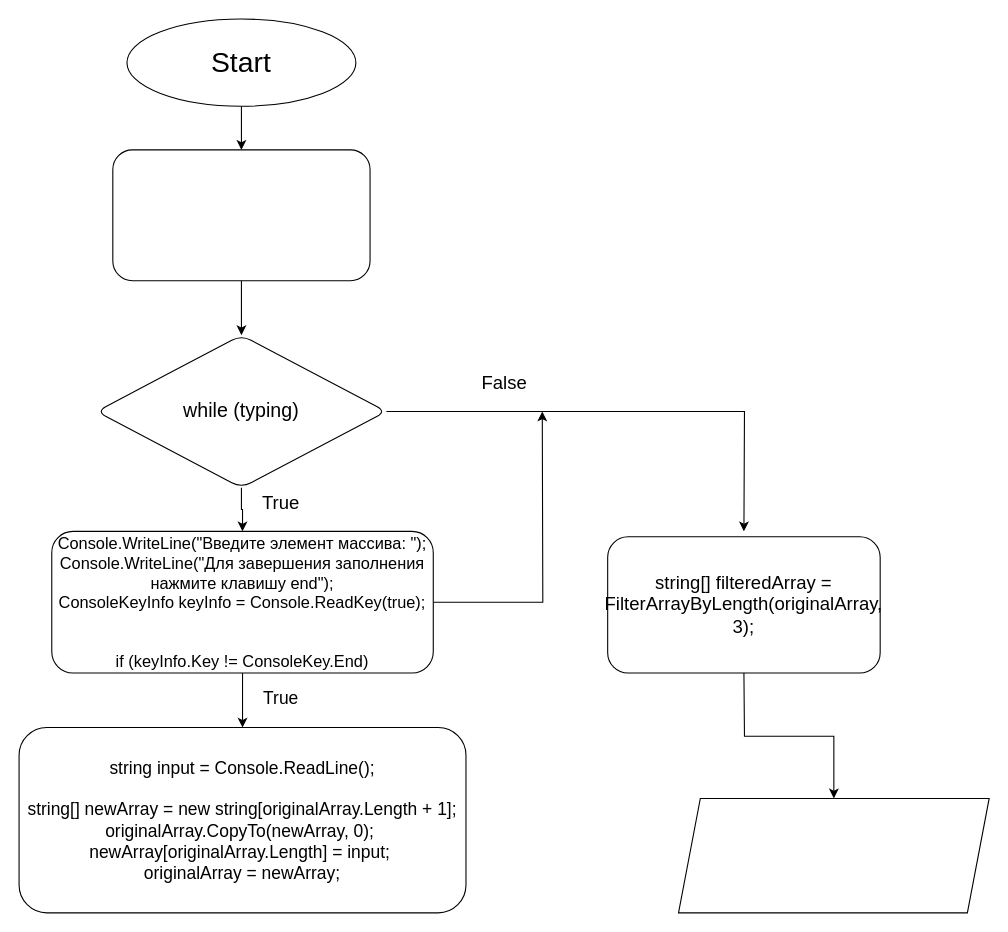
Image size: 1008x932. Some labels were removed from this diagram. The box of each missing label's shape, as (x1, y1, x2, y2) in pixels:
Console.WriteLine("[\"" + string.Join("\", \"", filteredArray) + "\"]");: (677, 797, 989, 913)
string[] originalArray = new string[0]; bool typing = true;: (112, 149, 370, 281)
